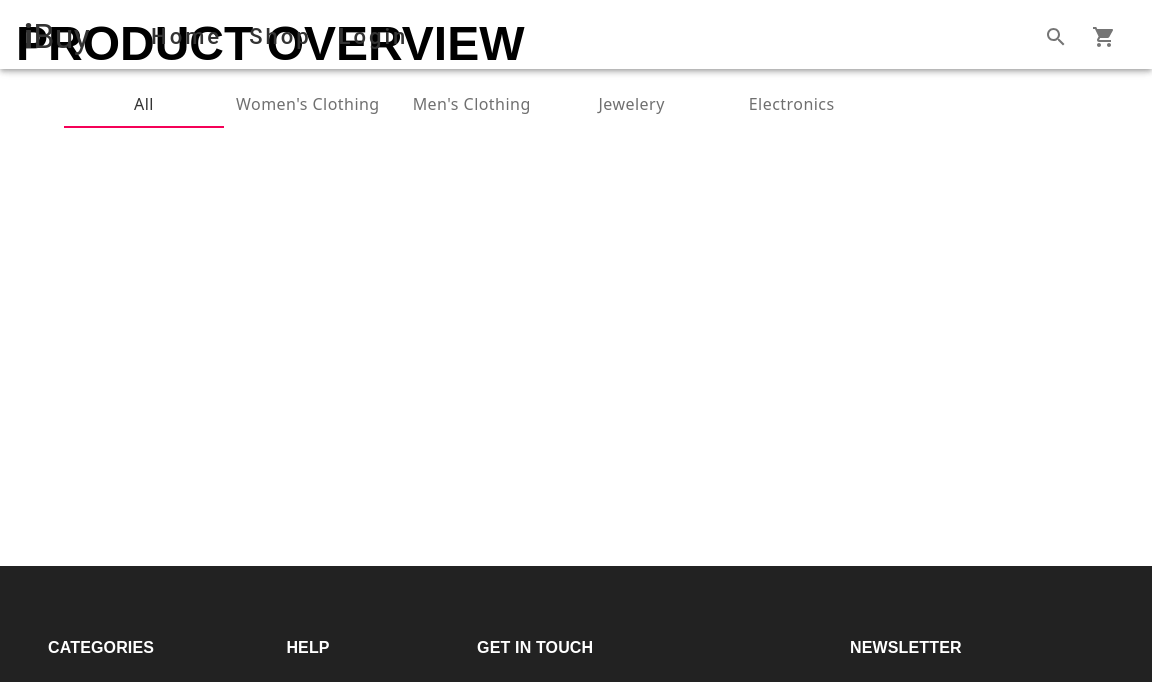
Scenario: app testing › logout success
The width and height of the screenshot is (1152, 682).
Click the button "Login": (374, 37) [328,10,419,64]
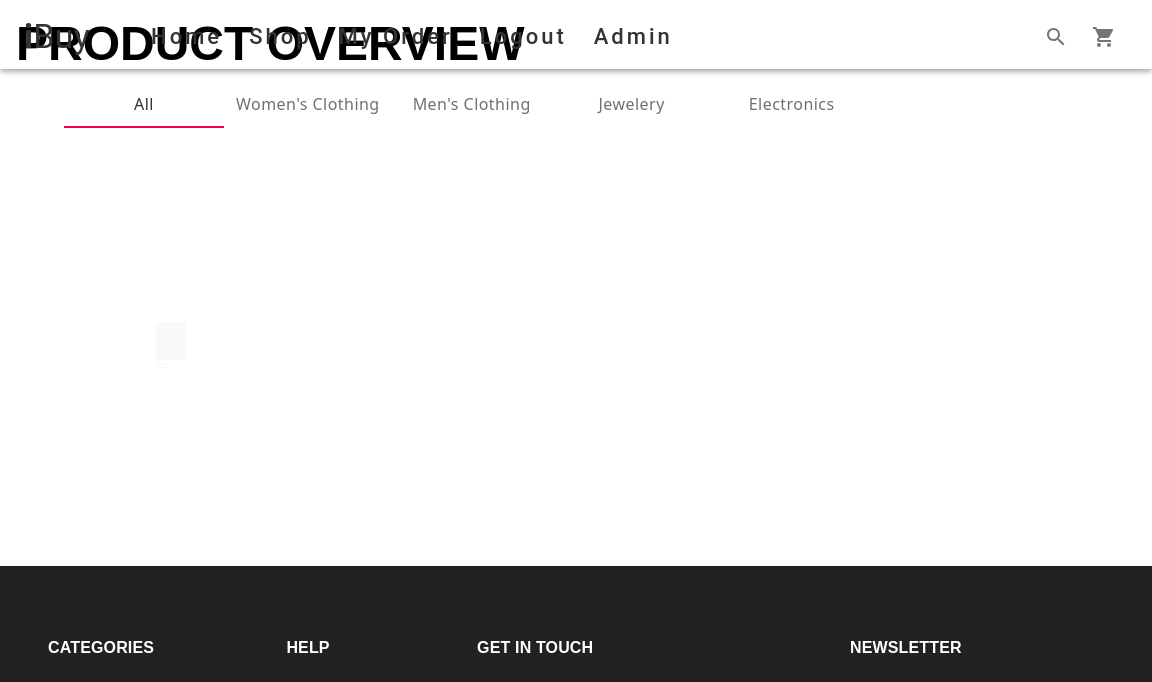
Click the button "Logout": (523, 37) [469,10,578,64]
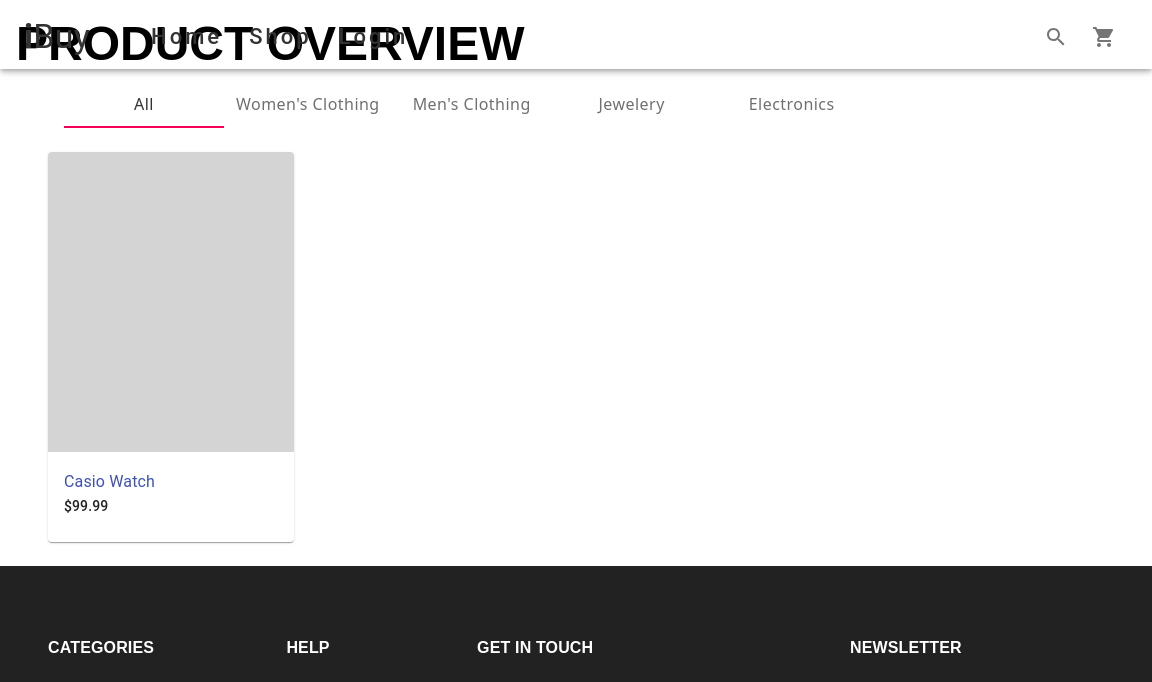
Result: the text "Login" is shown at [339,18,408,56]
